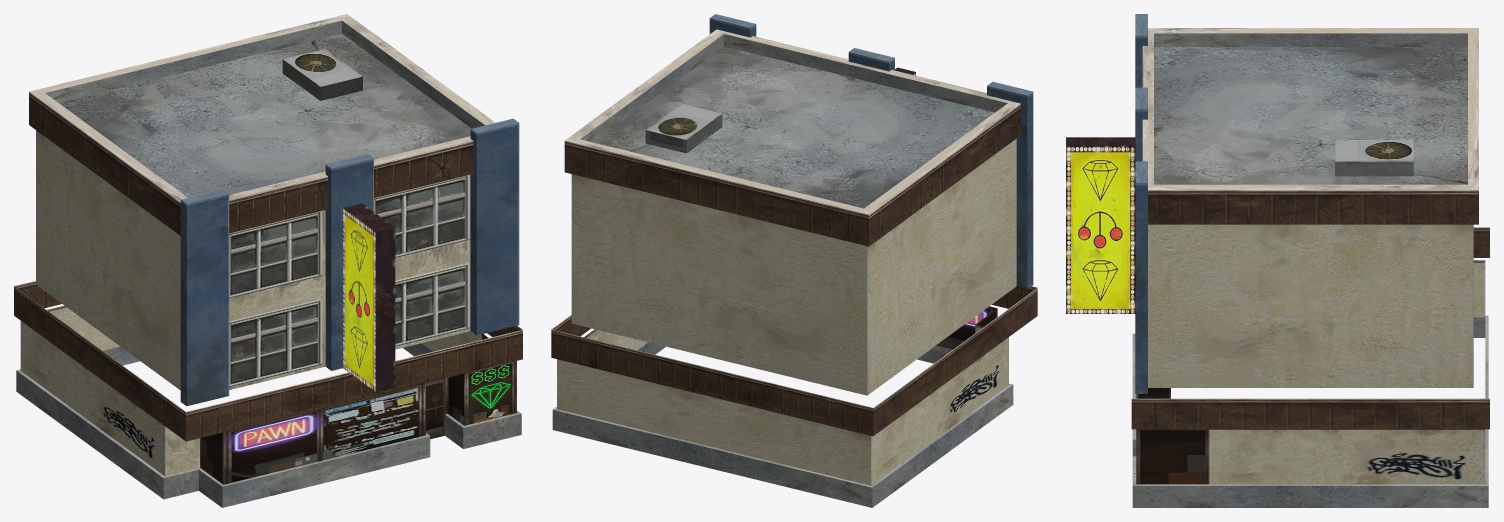
The model's file is LM_PawnShop1.glb.
The picture shows the model from 3 angles, left to right: view 1: azimuth 30°, elevation 25°; view 2: azimuth 150°, elevation 25°; view 3: azimuth 270°, elevation 25°; orthographic projection. The views are drawn at different scales.
Visible parts, largest first — view 1: pasted__polySurface804, pasted__loftedSurface3, pasted__pCube81, pasted__pCube90, pasted__pCube80, pasted__pCube85, pasted__pCube92, pasted__pCube88, pasted__pCube91, pasted__polySurface806, pasted__polySurface805, pasted__pCube89 (+1 smaller); view 2: pasted__polySurface804, pasted__loftedSurface3, pasted__pCube81, pasted__pCube90, pasted__pCube80, pasted__pCube85, pasted__pCube89, pasted__pCube92, pasted__pCube91; view 3: pasted__polySurface804, pasted__loftedSurface3, pasted__pCube81, pasted__pCube90, pasted__pCube88, pasted__pCube80, pasted__pCube92, pasted__pCube89, pasted__pCube91, pasted__pCube85.
Part boxes in pixels (x1,y1,x2,y2): pasted__polySurface804: (29,14,495,235); pasted__loftedSurface3: (16,305,521,507); pasted__pCube81: (36,204,470,390); pasted__pCube90: (36,130,470,309); pasted__pCube80: (14,281,522,441); pasted__pCube85: (180,189,229,406); pasted__pCube92: (470,118,519,335); pasted__pCube88: (343,203,395,392); pasted__pCube91: (325,154,373,370); pasted__polySurface806: (374,141,473,197); pasted__polySurface805: (229,176,327,233); pasted__pCube89: (282,49,362,100); pasted__polySurface804: (564,29,1020,246); pasted__loftedSurface3: (552,306,1013,507); pasted__pCube81: (571,209,1016,395); pasted__pCube90: (571,139,1016,318); pasted__pCube80: (551,286,1037,436); pasted__pCube85: (987,81,1033,288); pasted__pCube89: (645,104,722,153); pasted__pCube92: (709,14,756,37); pasted__pCube91: (848,48,894,71); pasted__polySurface804: (1142,28,1478,224); pasted__loftedSurface3: (1132,260,1488,507); pasted__pCube81: (1148,303,1473,387); pasted__pCube90: (1148,224,1473,303); pasted__pCube88: (1066,137,1135,313); pasted__pCube80: (1131,227,1489,429); pasted__pCube92: (1135,161,1147,393); pasted__pCube89: (1335,140,1413,176); pasted__pCube91: (1135,87,1147,161); pasted__pCube85: (1135,14,1147,87).
Size of the model in its own units: 1742 by 1538 by 1821.
Materials: 2 (2 with a texture image).
